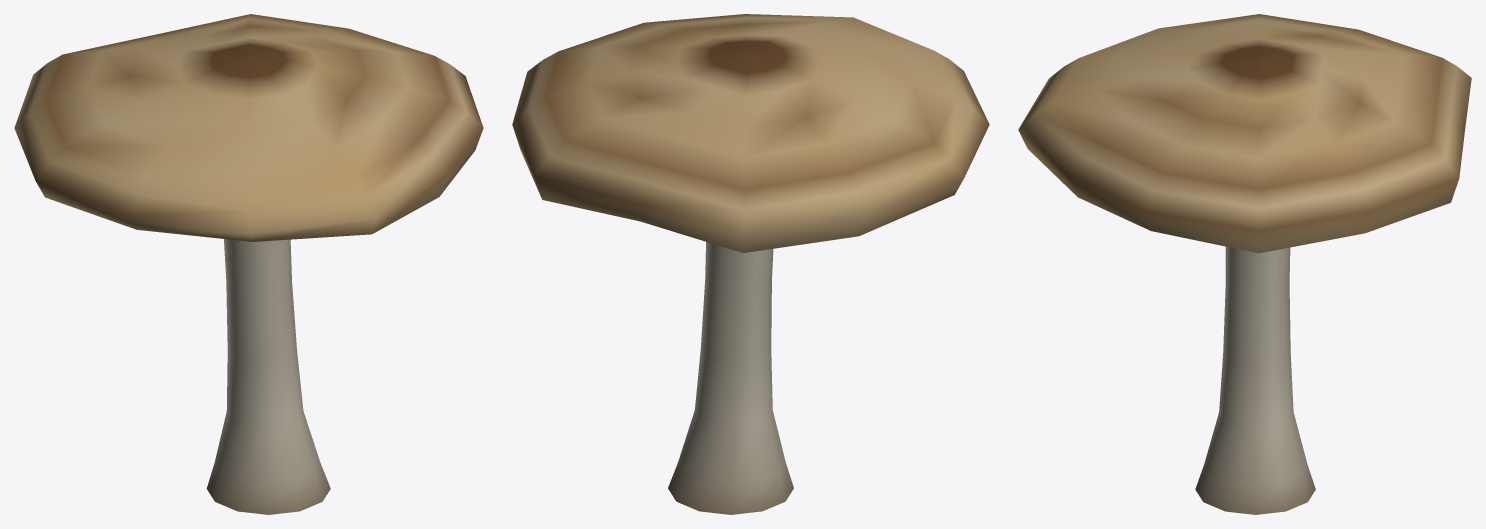
File: mushroom-parasol-b.glb
The picture shows the model from 3 angles, left to right: view 1: azimuth 30°, elevation 25°; view 2: azimuth 150°, elevation 25°; view 3: azimuth 270°, elevation 25°; orthographic projection. The views are drawn at different scales.
Visible parts, largest first — view 1: mushroom-parasol-b; view 2: mushroom-parasol-b; view 3: mushroom-parasol-b.
Boxes of the visible parts, x1,y1,x2,y2 form: mushroom-parasol-b: (14, 14, 483, 514); mushroom-parasol-b: (512, 14, 989, 514); mushroom-parasol-b: (1018, 14, 1471, 514).
Size of the model in its own units: 0.2591 by 0.25 by 0.2436.
